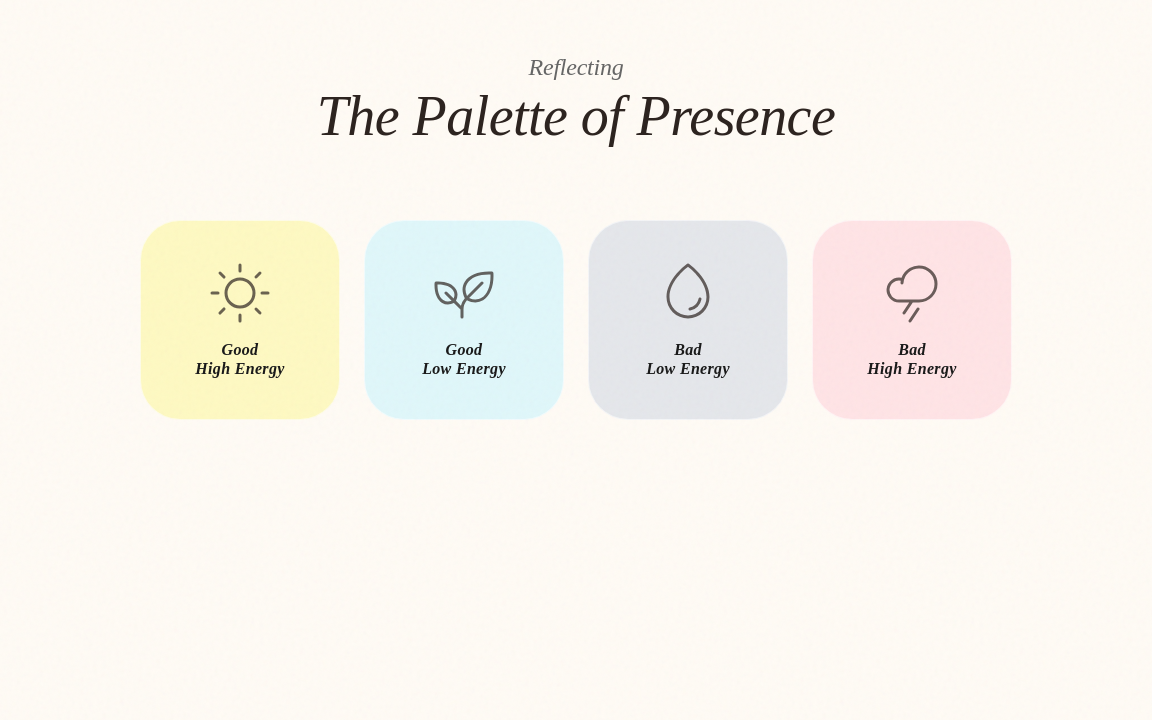
Test: CheckInGate › Check-in required › shows sleepy in bad + low energy options
Click the button with class "mood-card" showing "BadLow Energy".
click(688, 320)  # box [588, 220, 788, 420]
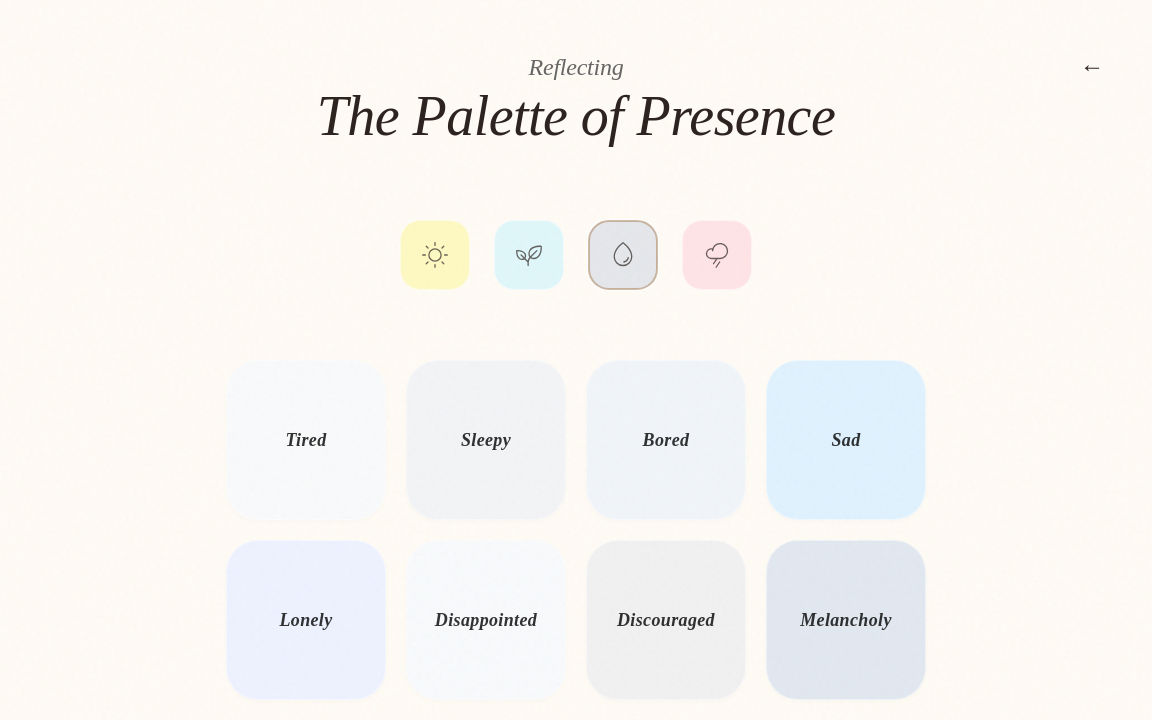
Result: the button "Sleepy" is shown at [406, 360, 566, 520]
